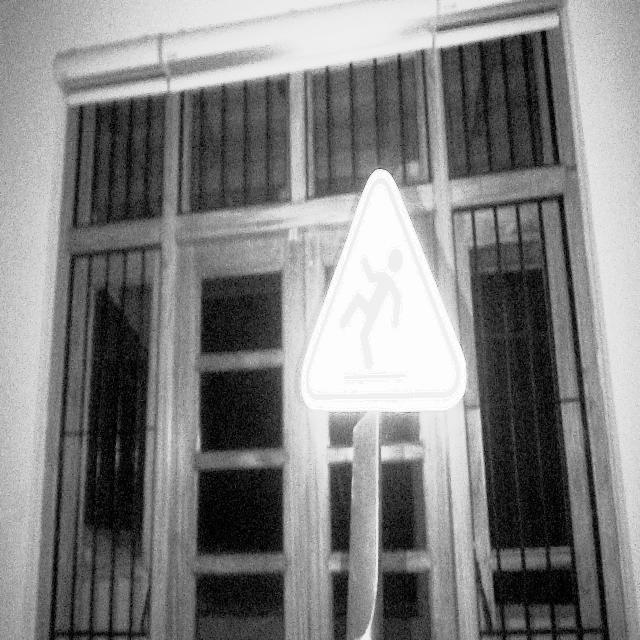Sign: (300, 168, 469, 414)
